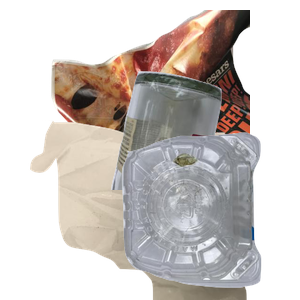glass: (109, 69, 300, 249)
paper: (49, 10, 289, 190)
plastic: (119, 130, 300, 300)
trash: (28, 120, 267, 300)
